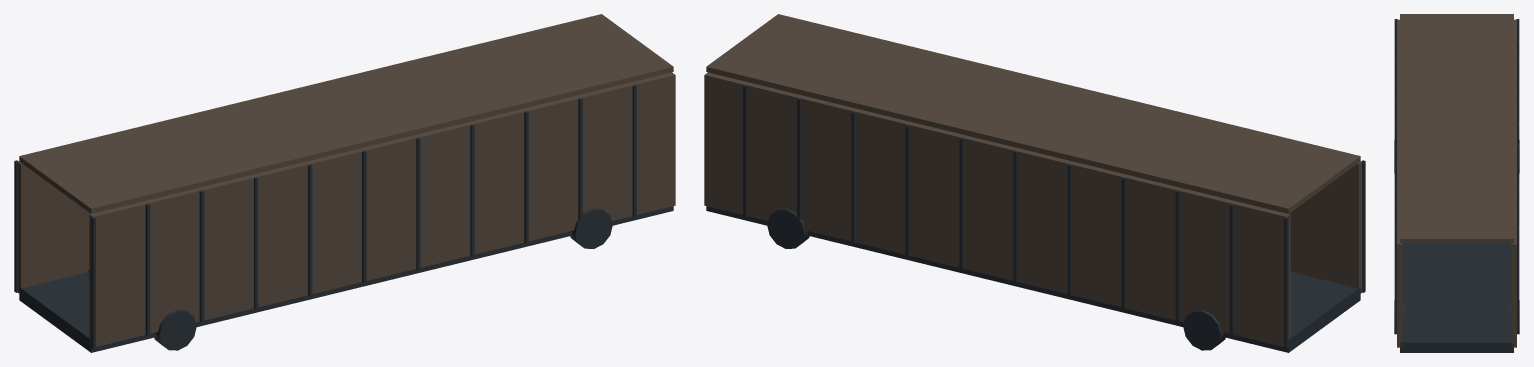
File: freight-car-3.glb
The picture shows the model from 3 angles, left to right: view 1: azimuth 30°, elevation 25°; view 2: azimuth 150°, elevation 25°; view 3: azimuth 270°, elevation 25°; orthographic projection. The views are drawn at different scales.
Visible parts, largest first — view 1: freight-car/2/KR-230-3; view 2: freight-car/2/KR-230-3; view 3: freight-car/2/KR-230-3.
Boxes of the visible parts, x1,y1,x2,y2 form: freight-car/2/KR-230-3: [14, 14, 675, 352]; freight-car/2/KR-230-3: [704, 14, 1365, 352]; freight-car/2/KR-230-3: [1394, 14, 1519, 352].
Bounding box in the file's own units: 14.03 × 3.66 × 3.3.
